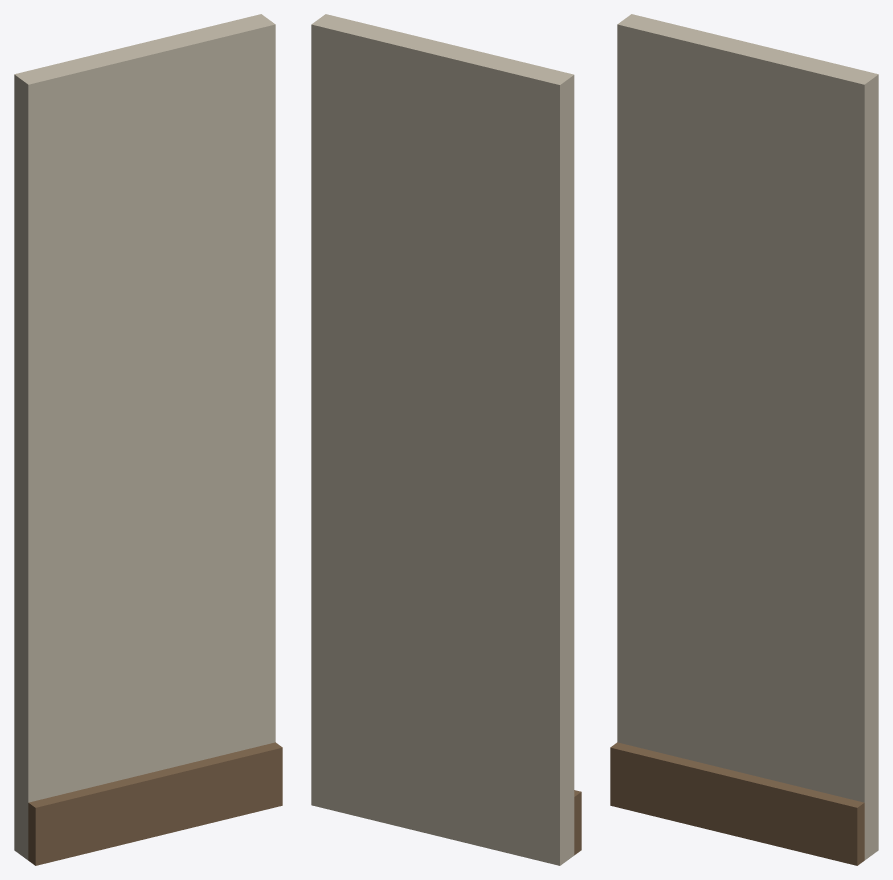
The model's file is Mesh_WallBaseboard_A1.fbx.
3 views of the same model, side by side, from view 1: azimuth 30°, elevation 25°; view 2: azimuth 150°, elevation 25°; view 3: azimuth 330°, elevation 25° (orthographic).
Parts seen in each view (by area): view 1: Mesh_WallBaseboard_A1; view 2: Mesh_WallBaseboard_A1; view 3: Mesh_WallBaseboard_A1.
Boxes of the visible parts, x1,y1,x2,y2 form: Mesh_WallBaseboard_A1: [14, 14, 282, 865]; Mesh_WallBaseboard_A1: [311, 14, 581, 865]; Mesh_WallBaseboard_A1: [610, 14, 878, 865].
Bounding box in the file's own units: 1 × 3 × 0.15.
